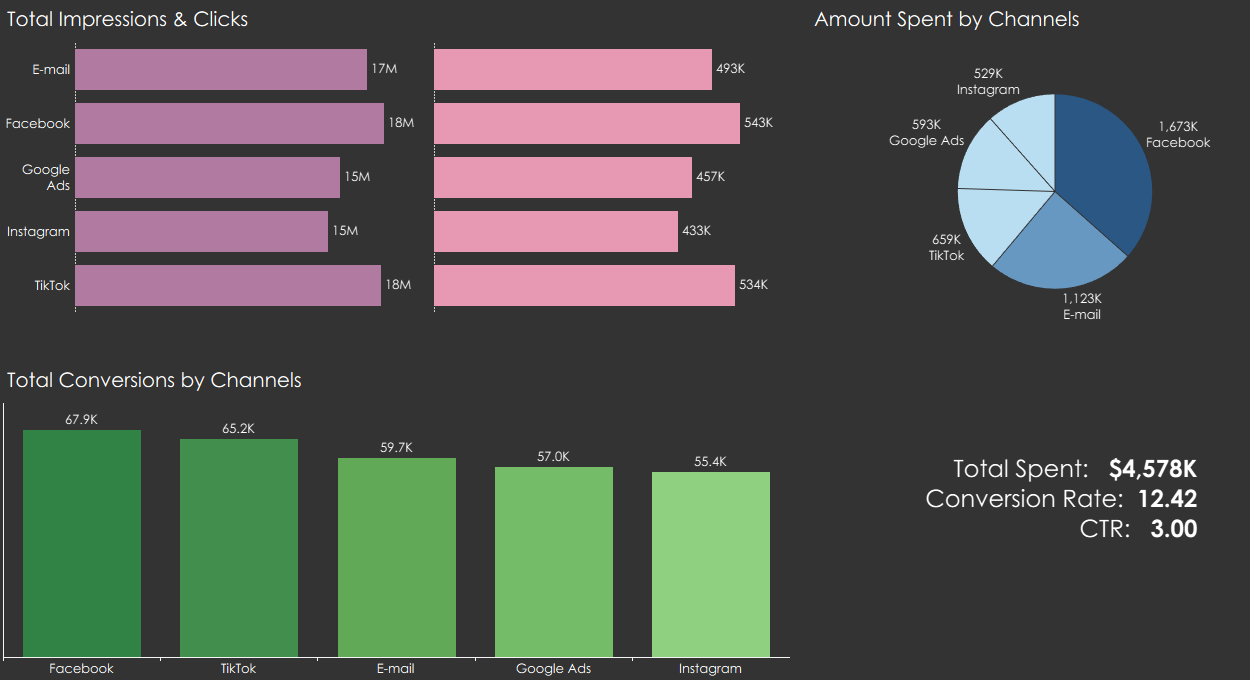

Layout of this report page (visuals, bound fields, positions):
{"tool":"tableau","page":{"name":"Dashboard 1","canvas":[1000,1000],"units":"permille","ordinal":0},"visuals":[{"type":"worksheet","title":"Sheet 2","mark":"Automatic","rows":["Channel"],"cols":["Impressions","Clicks"],"box":[7,14.3,589.7,460.7]},{"type":"worksheet","title":"Sheet 4","mark":"Automatic","box":[596.7,14.3,396.3,460.7]},{"type":"worksheet","title":"Sheet 1","mark":"Automatic","rows":["Conversions"],"cols":["Channel"],"box":[7,474.9,548.7,510.8]},{"type":"worksheet","title":"Sheet 3","mark":"Pie","box":[555.8,474.9,437.2,510.8]}]}

Visuals, with their boxes on the dashboard's canvas, which has no fixed pixel size, in thousandths of its width and height (x1, y1, x2, y2). These are canvas units, not pixel positions in the 1250x680 screenshot, which may show the page scaled, cropped or inside an application window:
"Sheet 2" worksheet: [x1=7, y1=14, x2=597, y2=475]
"Sheet 4" worksheet: [x1=597, y1=14, x2=993, y2=475]
"Sheet 1" worksheet: [x1=7, y1=475, x2=556, y2=986]
"Sheet 3" worksheet (Pie marks): [x1=556, y1=475, x2=993, y2=986]
